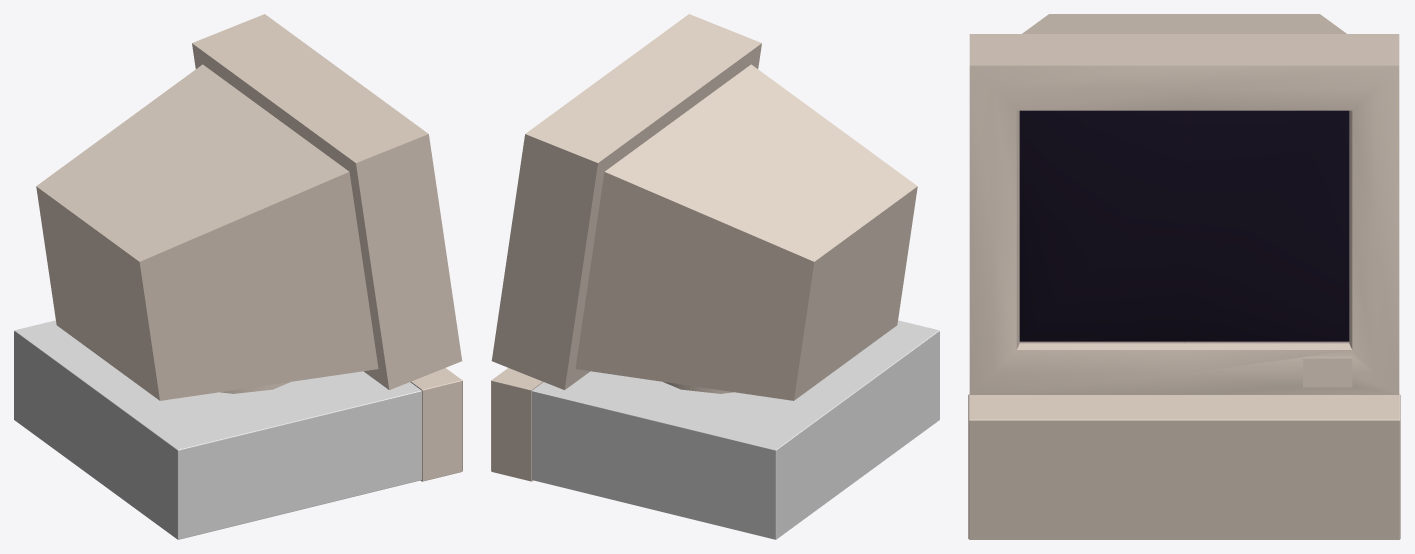
Rendered from OldPC.fbx.
3 renders of one model, left to right at view 1: azimuth 30°, elevation 25°; view 2: azimuth 150°, elevation 25°; view 3: azimuth 270°, elevation 25°, orthographic. The views are drawn at different scales.
Parts seen in each view (by area): view 1: Cube; view 2: Cube; view 3: Cube, Button cutter.
Boxes of the visible parts, bbox=[...] form: Cube: bbox=[14, 14, 462, 539]; Cube: bbox=[491, 14, 939, 539]; Cube: bbox=[968, 14, 1400, 539]; Button cutter: bbox=[1303, 357, 1352, 387].
Bounding box in the file's own units: 503 × 517 × 582.
